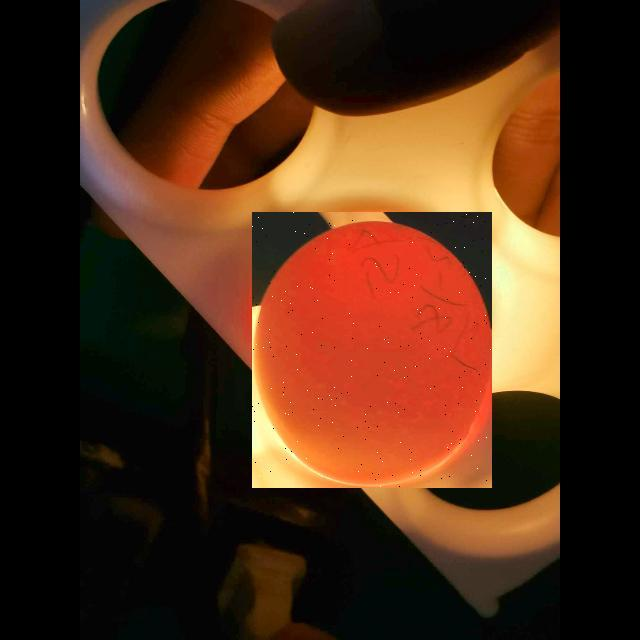Infertile: (252, 212, 492, 488)
